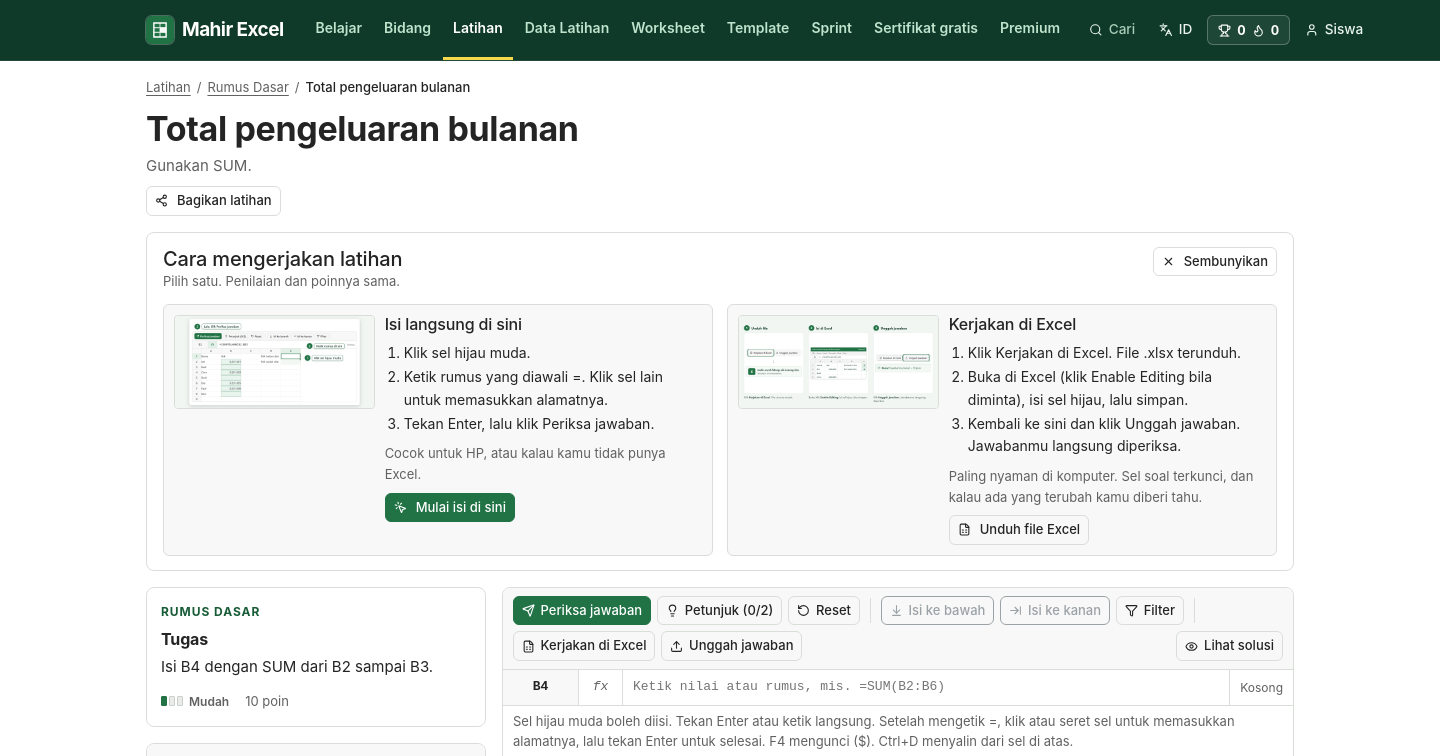
it: playground latihan › jawaban benar: pesan sukses, penjelasan, solusi, poin dari server, dan tautan berikutnya
Check: the heading "Total pengeluaran bulanan" is shown, box [146,108,579,149]
Type "=SUM(B2:B3)" into the field named "Isi sel B4" at (926, 687), box [623,670,1229,705]
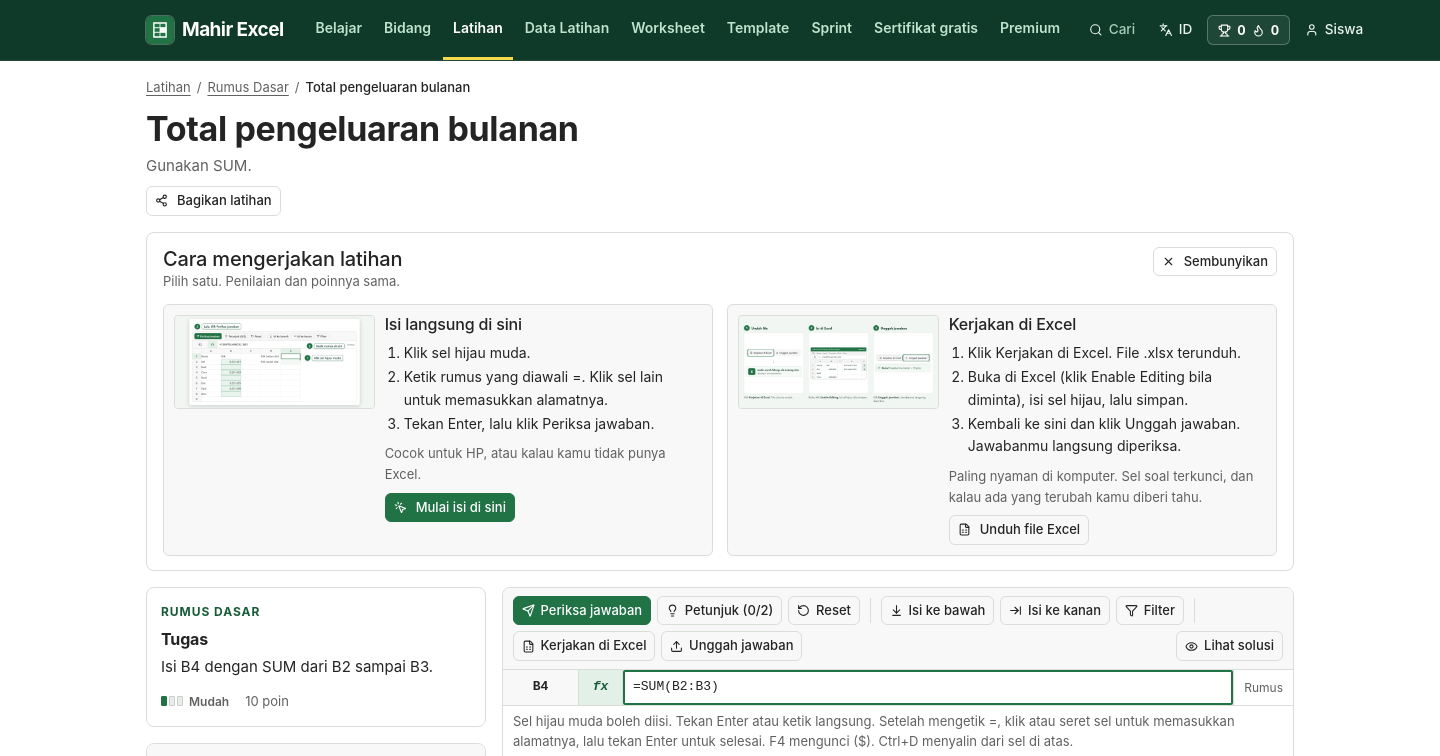
Click the button "Periksa jawaban" at (582, 611), box [513,596,651,625]
(page scrolled)
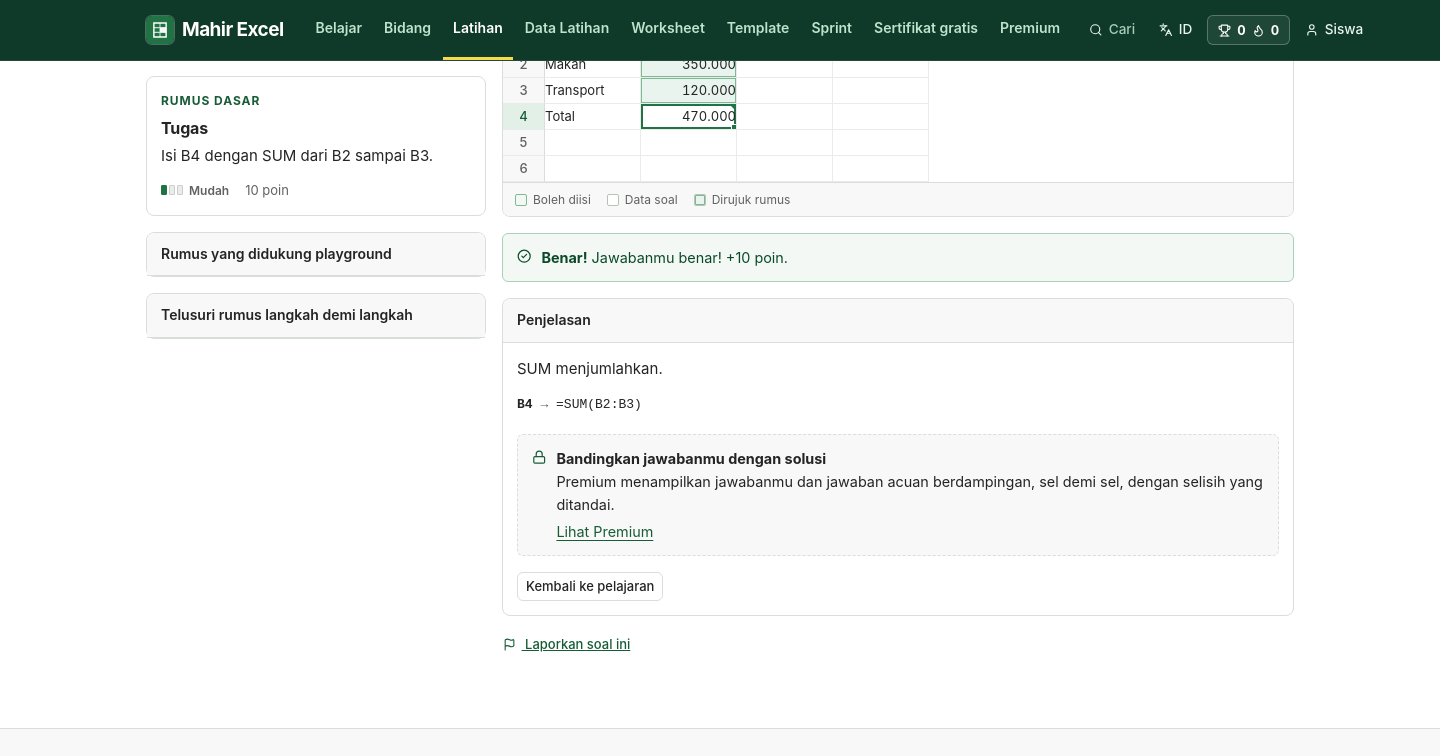
Check: the text "Benar!" is shown, box [541,249,588,266]
Check: the text "+10 poin." is shown, box [726,249,788,266]
Check: the text "SUM menjumlahkan." is shown, box [517,359,663,378]
